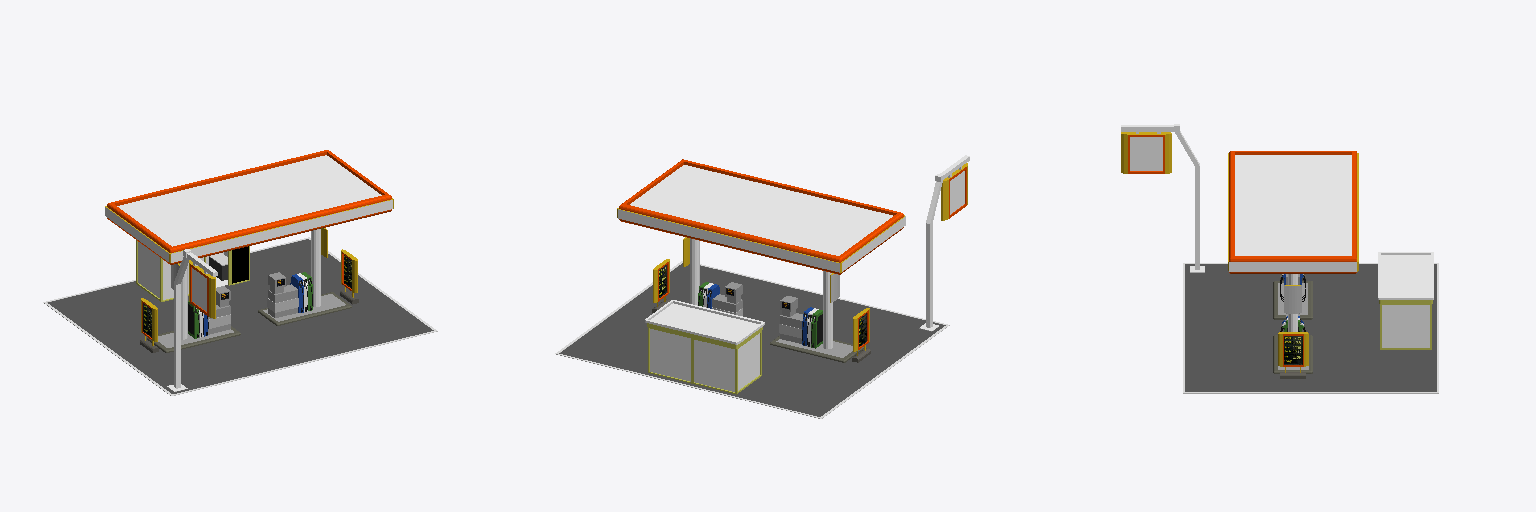
3 renders of one model, left to right at view 1: azimuth 30°, elevation 25°; view 2: azimuth 150°, elevation 25°; view 3: azimuth 270°, elevation 25°, orthographic.
Parts seen in each view (by area): view 1: gas station.obj; view 2: gas station.obj; view 3: gas station.obj.
Boxes of the visible parts, box(x1,y1,x2,y2) form: gas station.obj: box(43, 150, 437, 395); gas station.obj: box(555, 155, 969, 418); gas station.obj: box(1121, 124, 1438, 393).
Bounding box in the file's own units: 120 × 62.34 × 124.
27 materials, 2 textured.